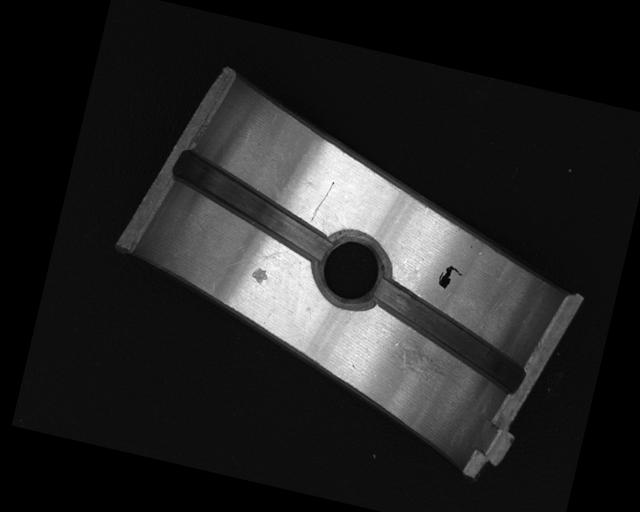blot: (436, 262, 465, 293)
bruise: (249, 265, 271, 287)
gap: (359, 278, 538, 395)
hole: (162, 148, 344, 265), (310, 225, 397, 311)
nick: (308, 177, 336, 227)
scratch: (371, 318, 471, 385)
